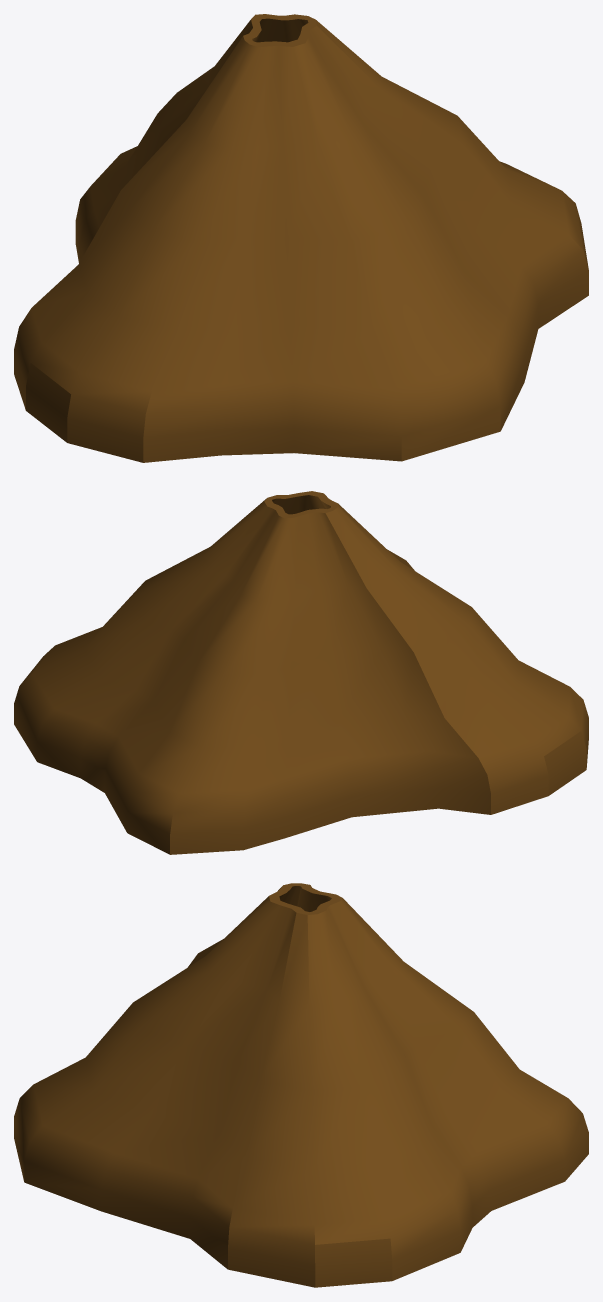
File: AntHill.fbx
3 views of the same model, one above another, from view 1: azimuth 30°, elevation 25°; view 2: azimuth 150°, elevation 25°; view 3: azimuth 270°, elevation 25° (orthographic). The views are drawn at different scales.
Parts seen in each view (by area): view 1: Plane.001; view 2: Plane.001; view 3: Plane.001.
Boxes of the visible parts, x1,y1,x2,y2 form: Plane.001: (14,14,588,462); Plane.001: (14,491,588,854); Plane.001: (14,883,588,1287).
Bounding box in the file's own units: 88.51 × 43.02 × 86.77.
